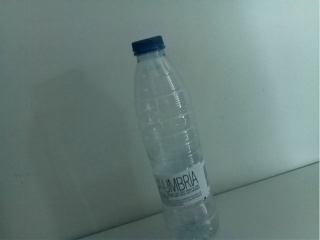botella plastico: (127, 34, 218, 240)
